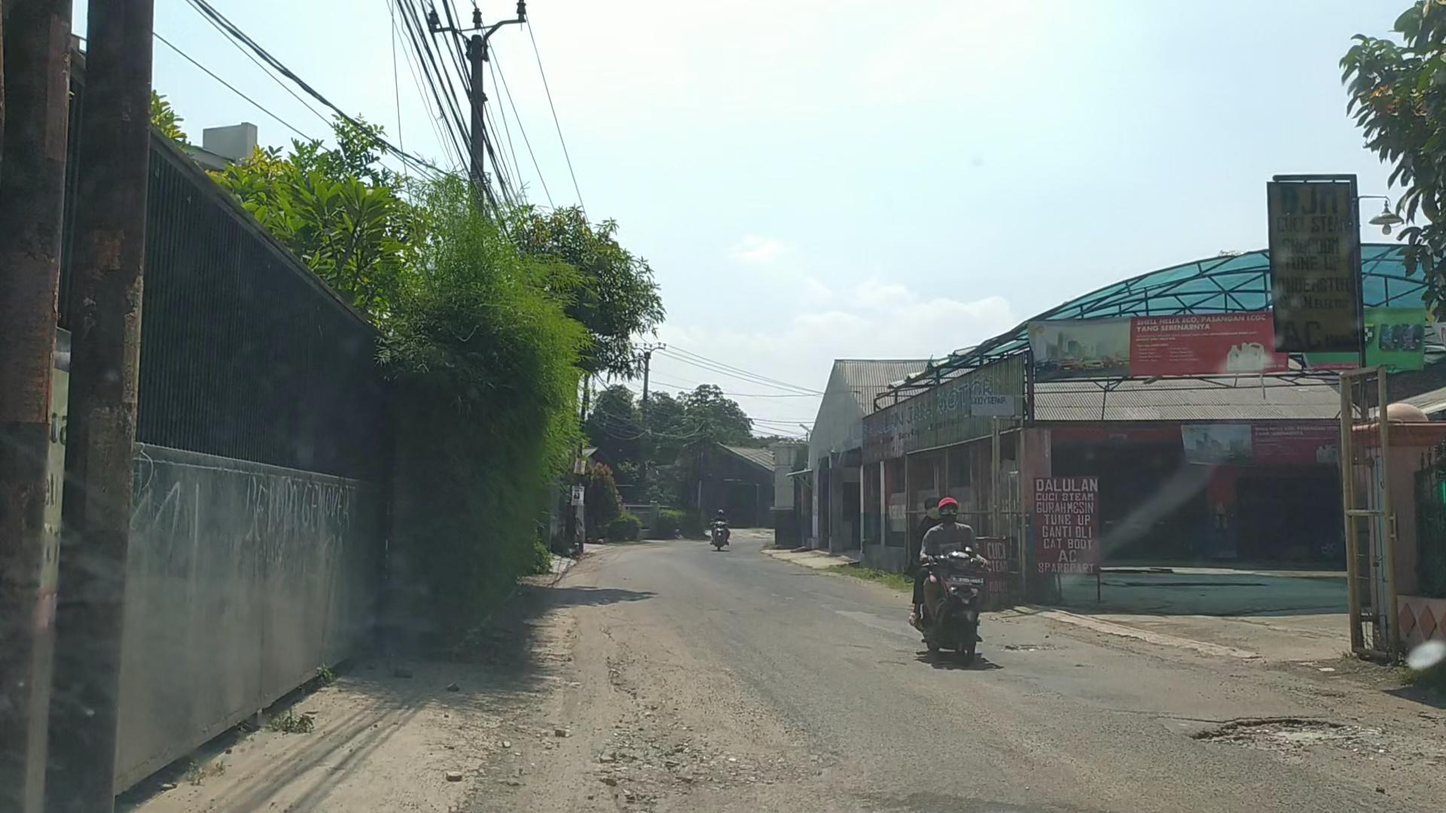pothole: (1194, 718, 1350, 765)
